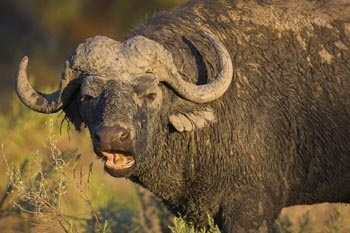buffalo: (15, 3, 346, 233)
